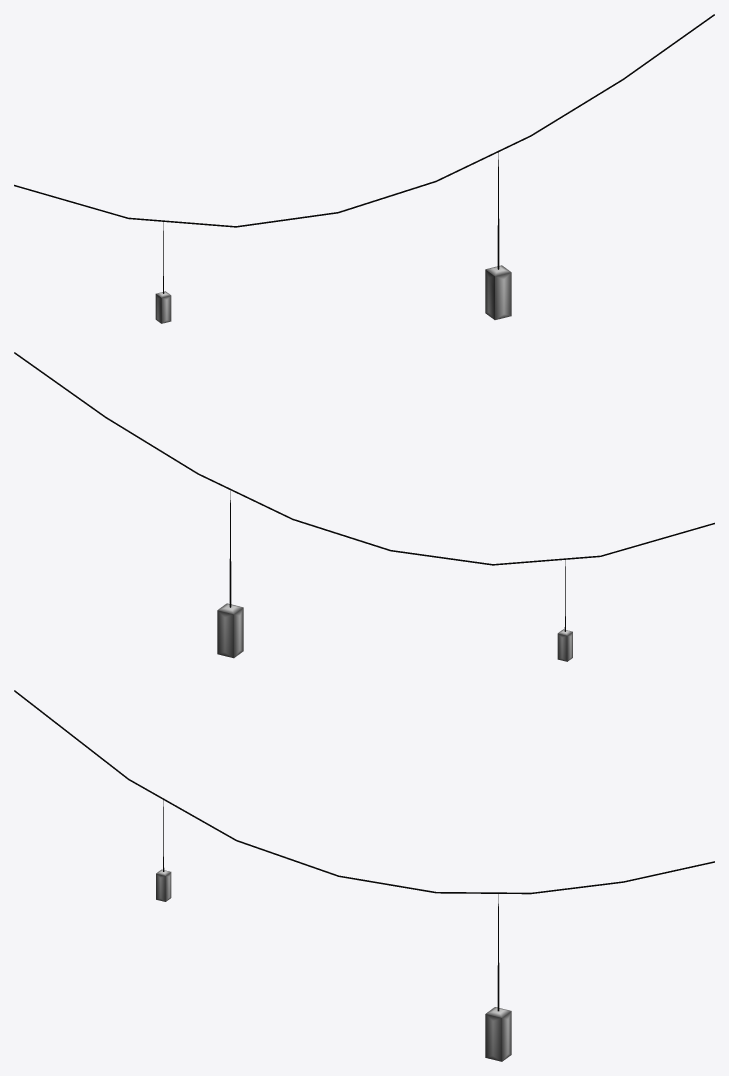
The model's file is Garland_A_2_QuadLamps_White.fbx.
3 views of the same model, one above another, from view 1: azimuth 30°, elevation 25°; view 2: azimuth 150°, elevation 25°; view 3: azimuth 330°, elevation 25° (orthographic).
Parts seen in each view (by area): view 1: Garland_A_2_QuadLamps_White; view 2: Garland_A_2_QuadLamps_White; view 3: Garland_A_2_QuadLamps_White.
Boxes of the visible parts, left/top/right/bottom form: Garland_A_2_QuadLamps_White: left=14, top=14, right=714, bottom=323; Garland_A_2_QuadLamps_White: left=14, top=352, right=714, bottom=661; Garland_A_2_QuadLamps_White: left=14, top=690, right=714, bottom=1061.
Bounding box in the file's own units: 673 × 229 × 18.51.
